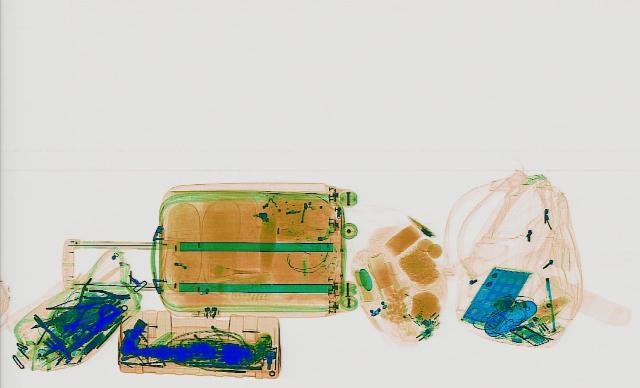Pliers: (81, 287, 130, 300)
Wrench: (75, 301, 132, 334)
